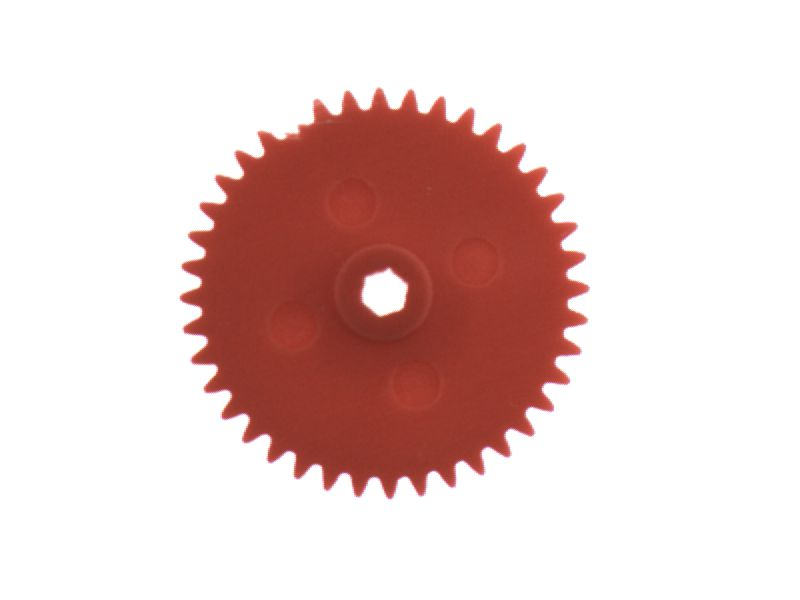defect_lack: (269, 103, 327, 152)
